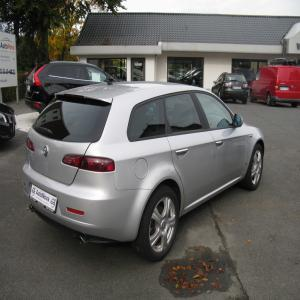Vehicle-registration-plate: (30, 185, 58, 215), (281, 88, 290, 91)
